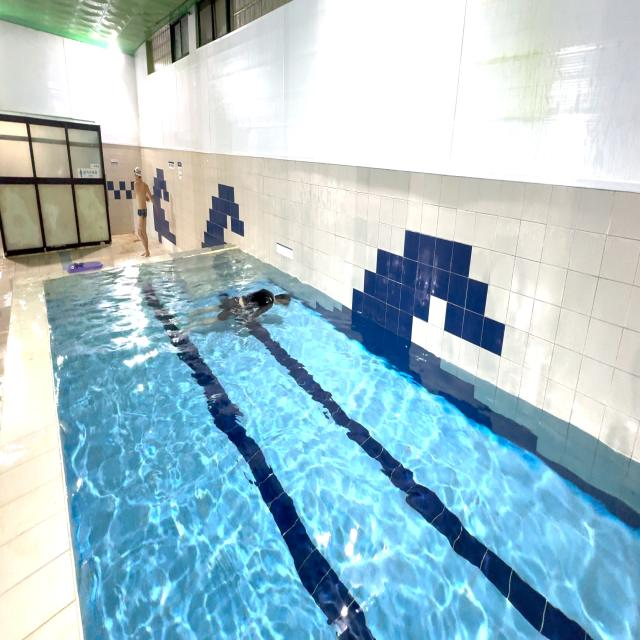Swimming: (183, 281, 296, 338)
